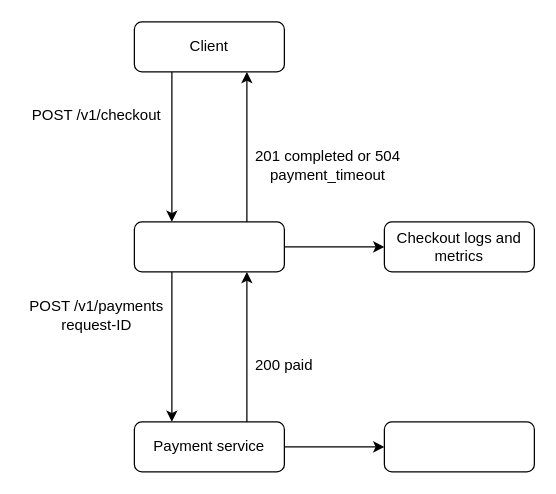
This 556x494 diagram has some shape labels left out. The shapes that lost their labels are listed below. From the top down, each one's centre as x and y in pixels, then its label:
the point at 208,246: Checkout service
the point at 458,446: Payment logs and metrics
